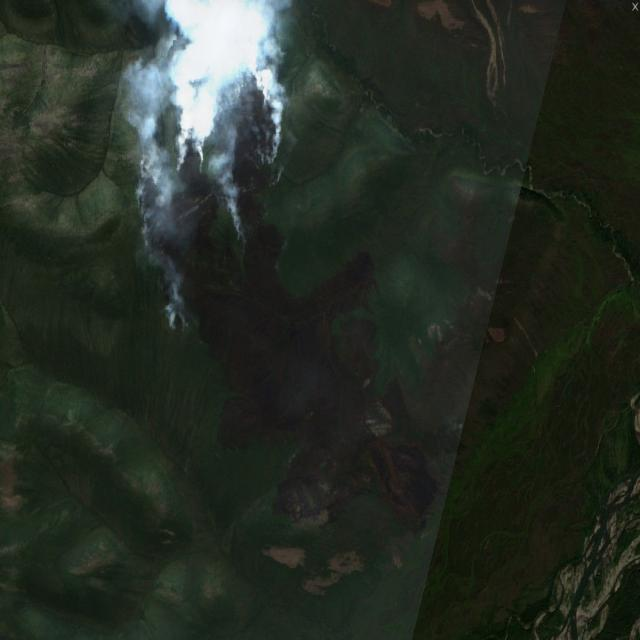fire: (134, 61, 290, 335)
